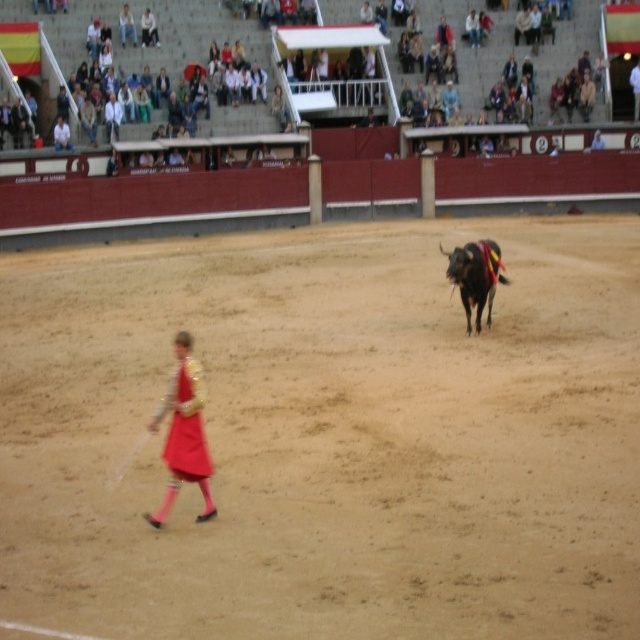Bull: (437, 237, 515, 336)
